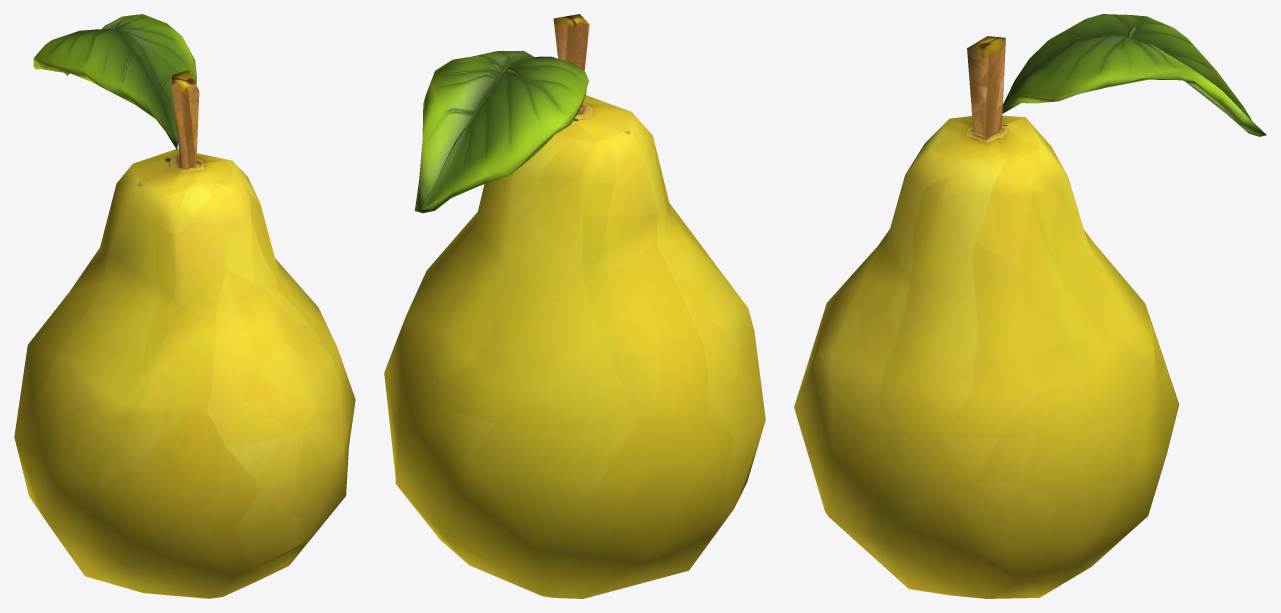
File: gruszka.glb
3 views of the same model, side by side, from view 1: azimuth 30°, elevation 25°; view 2: azimuth 150°, elevation 25°; view 3: azimuth 270°, elevation 25° (orthographic). The views are drawn at different scales.
Parts seen in each view (by area): view 1: Mesh1, Mesh1.002; view 2: Mesh1, Mesh1.002; view 3: Mesh1, Mesh1.002.
Boxes of the visible parts, x1=… form: Mesh1: x1=14, y1=70, x2=355, y2=598; Mesh1.002: x1=33, y1=14, x2=196, y2=150; Mesh1: x1=384, y1=14, x2=765, y2=598; Mesh1.002: x1=414, y1=51, x2=588, y2=213; Mesh1: x1=794, y1=36, x2=1179, y2=598; Mesh1.002: x1=1002, y1=14, x2=1266, y2=136.
Bounding box in the file's own units: 1.22 × 2.02 × 1.58.
2 materials, 2 textured.
